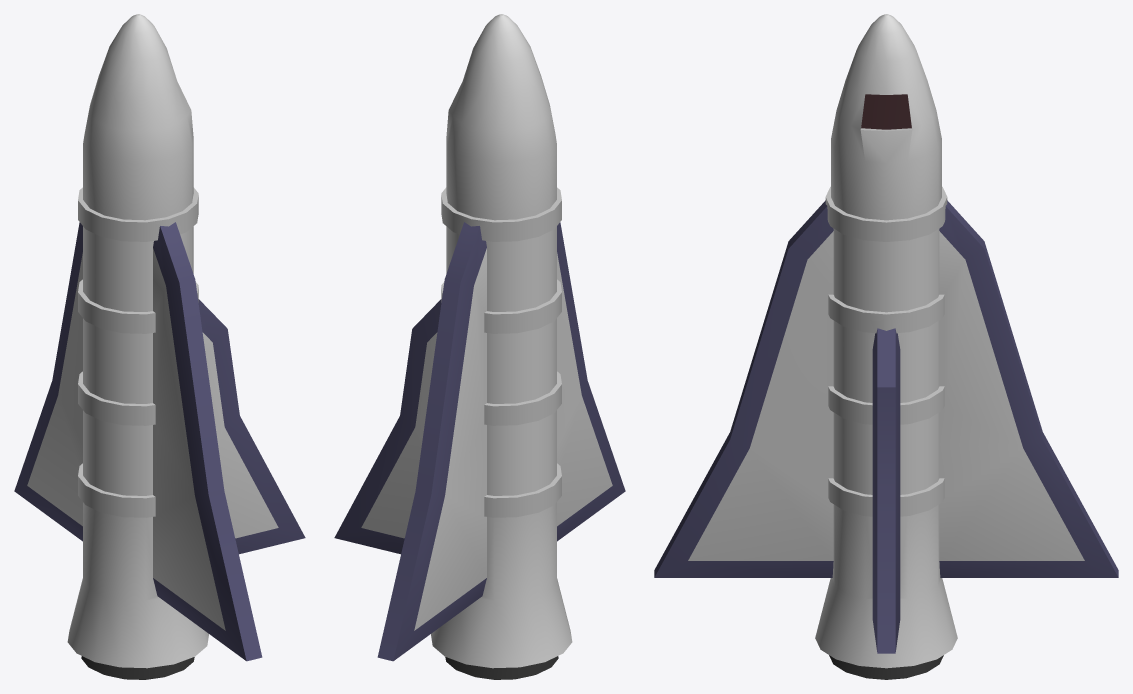
Rendered from rocket.glb.
The picture shows the model from 3 angles, left to right: view 1: azimuth 30°, elevation 25°; view 2: azimuth 150°, elevation 25°; view 3: azimuth 270°, elevation 25°; orthographic projection.
Visible parts, largest first — view 1: Cylinder; view 2: Cylinder; view 3: Cylinder.
Boxes of the visible parts, x1,y1,x2,y2 form: Cylinder: [14, 14, 305, 679]; Cylinder: [334, 14, 625, 679]; Cylinder: [654, 14, 1118, 679].
Size of the model in its own units: 2.56 by 7 by 4.58.
